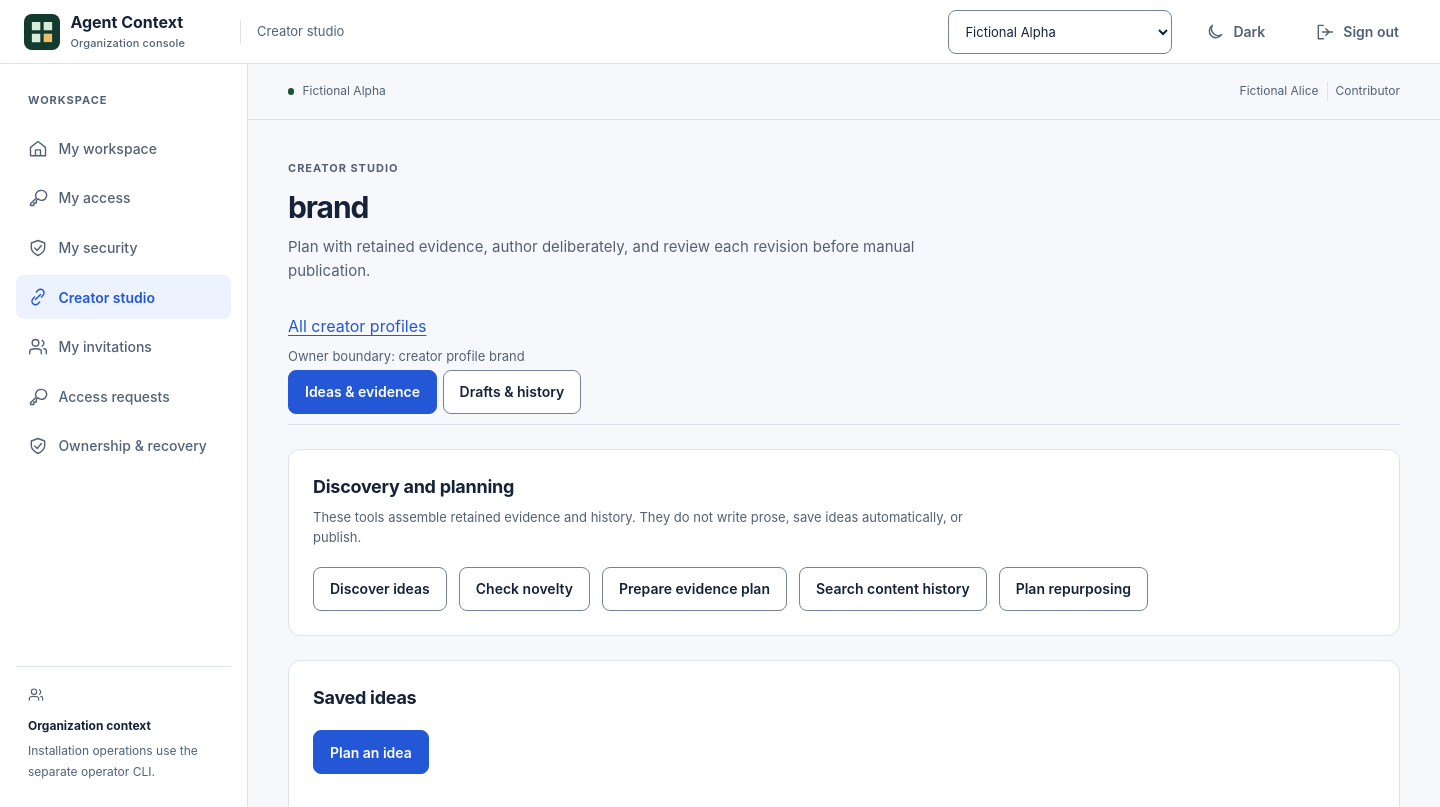
offers the real content API methods and supports lexical planning without embeddings
Click the button "Check novelty".
click(524, 589)  # box [459,567,590,611]
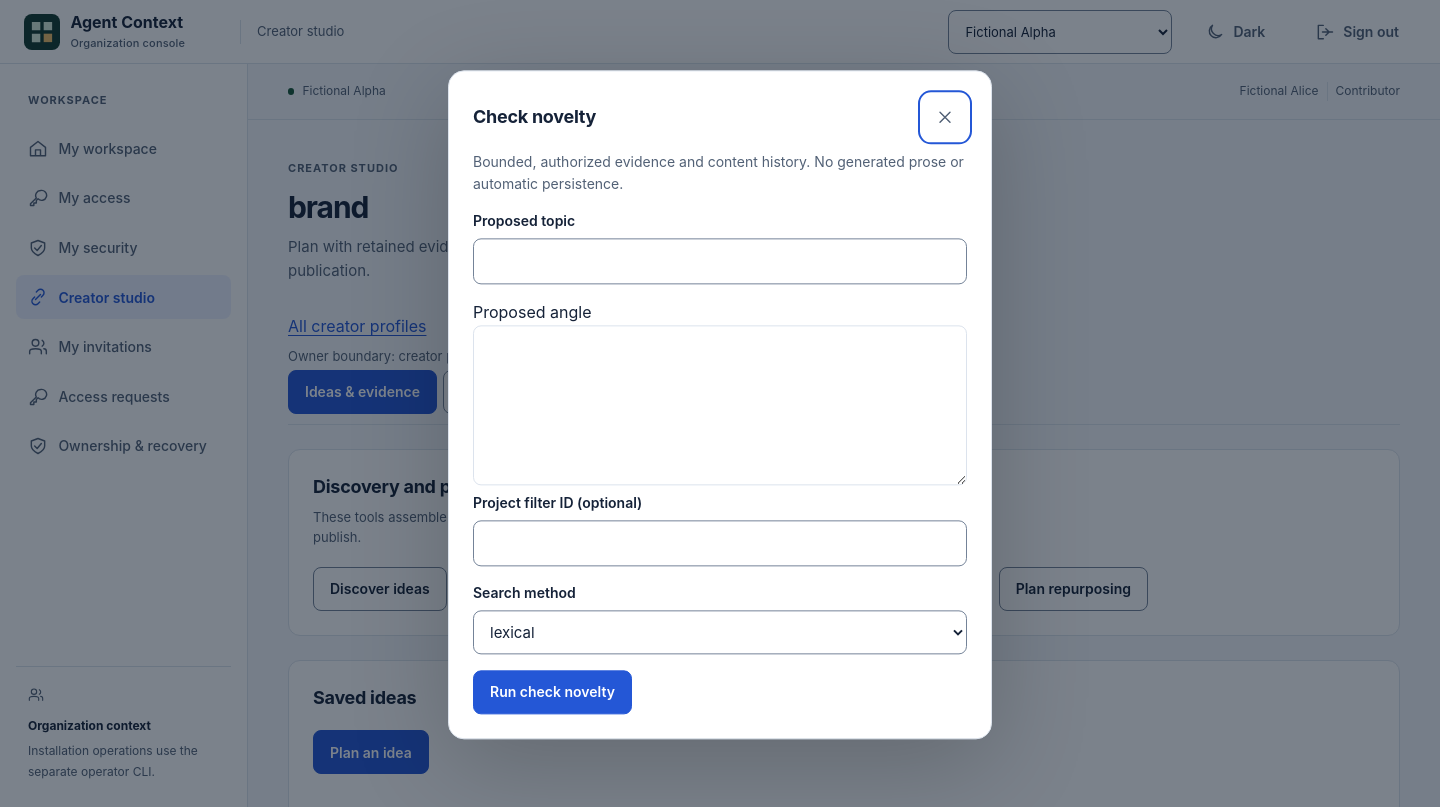
Now the dropdown labelled "Search method" shows "lexical", box [473,611,967,655]
Type "Bounded retries" into the field labelled "Proposed topic".
click(720, 262); type("Bounded retries")  # box [473,239,967,285]
Type "Public guidance" into the text box labelled "Proposed angle".
click(720, 406); type("Public guidance")  # box [473,326,967,486]
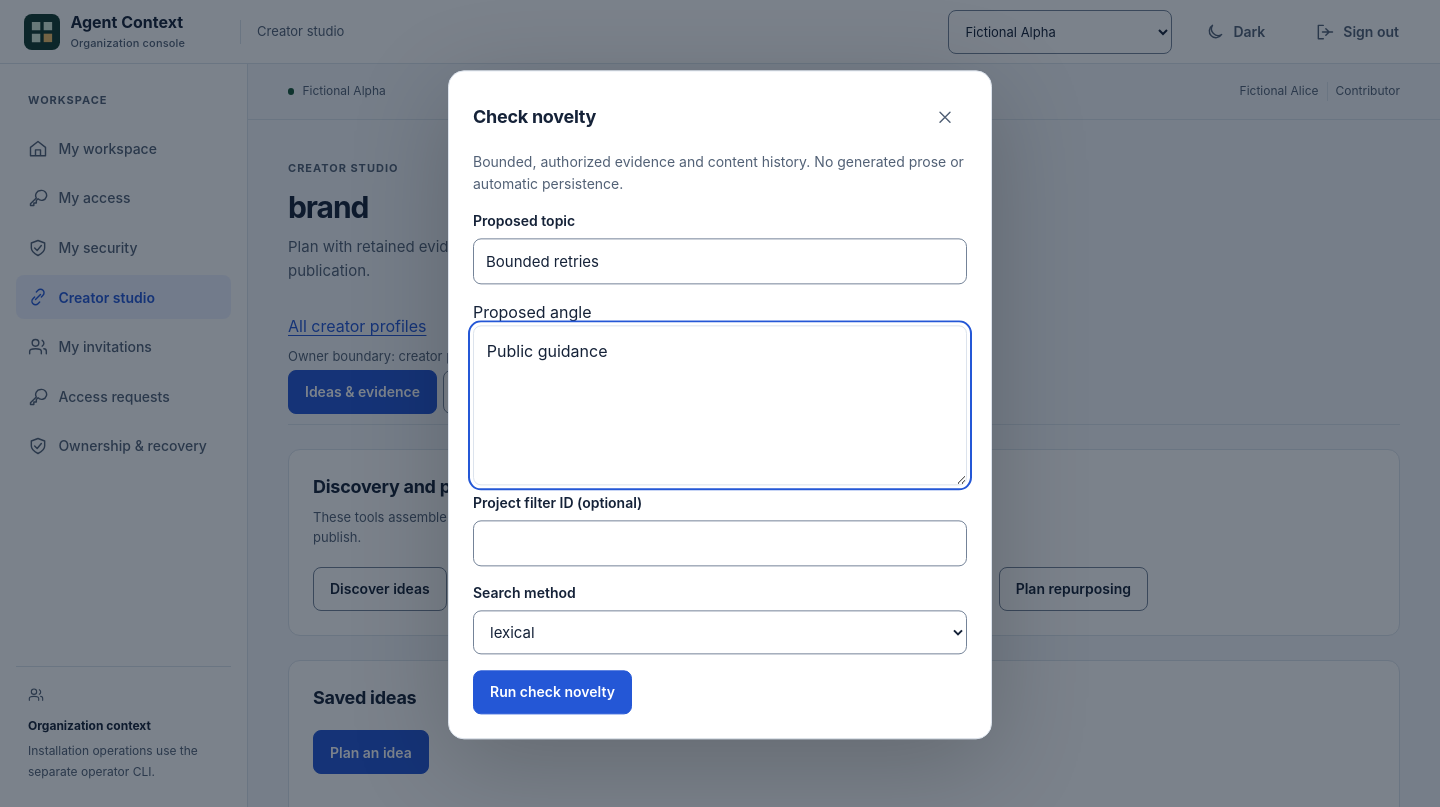
Select "hybrid" in the dropdown labelled "Search method" at (720, 633), box [473,611,967,655]
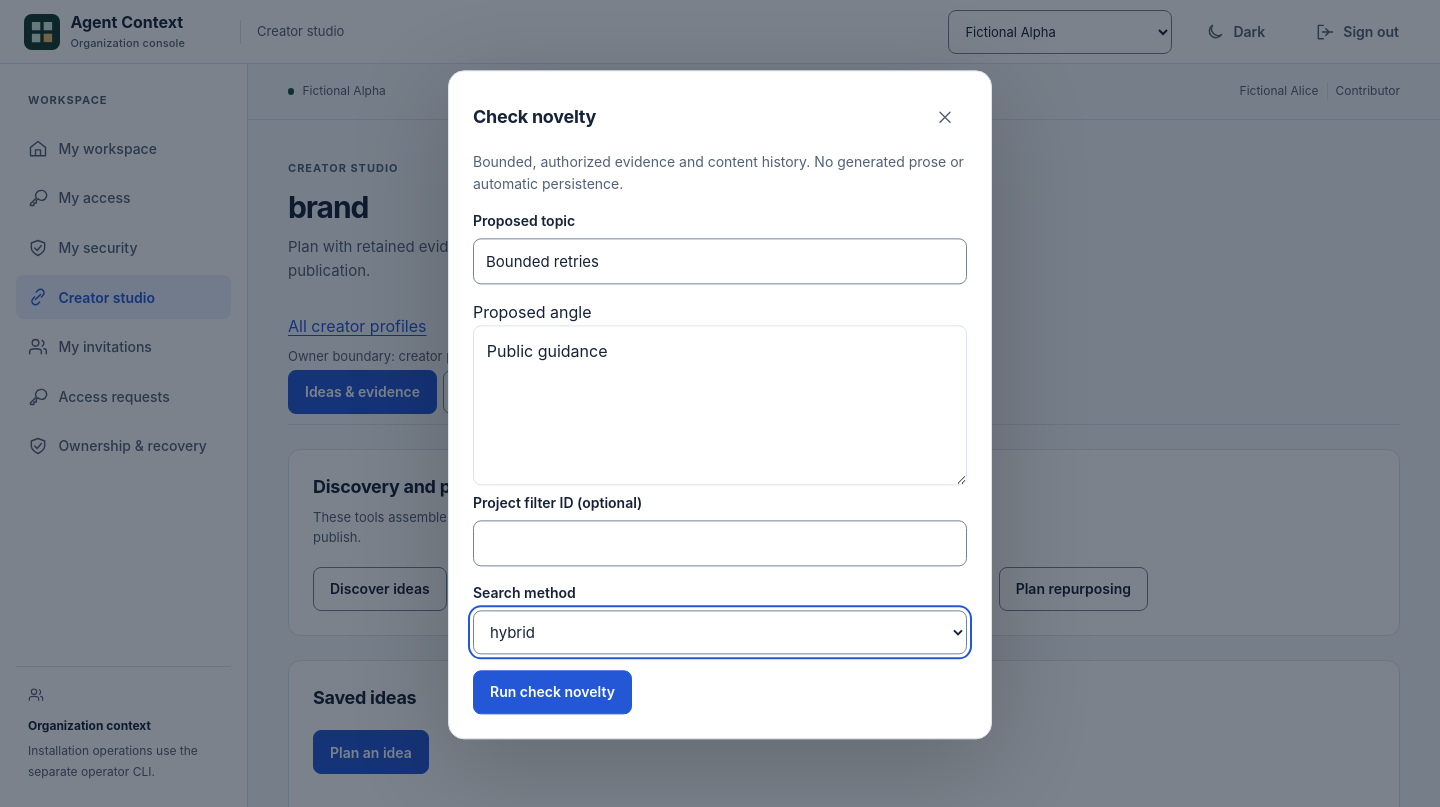
Click the button "Run check novelty".
click(552, 693)  # box [473,671,632,715]
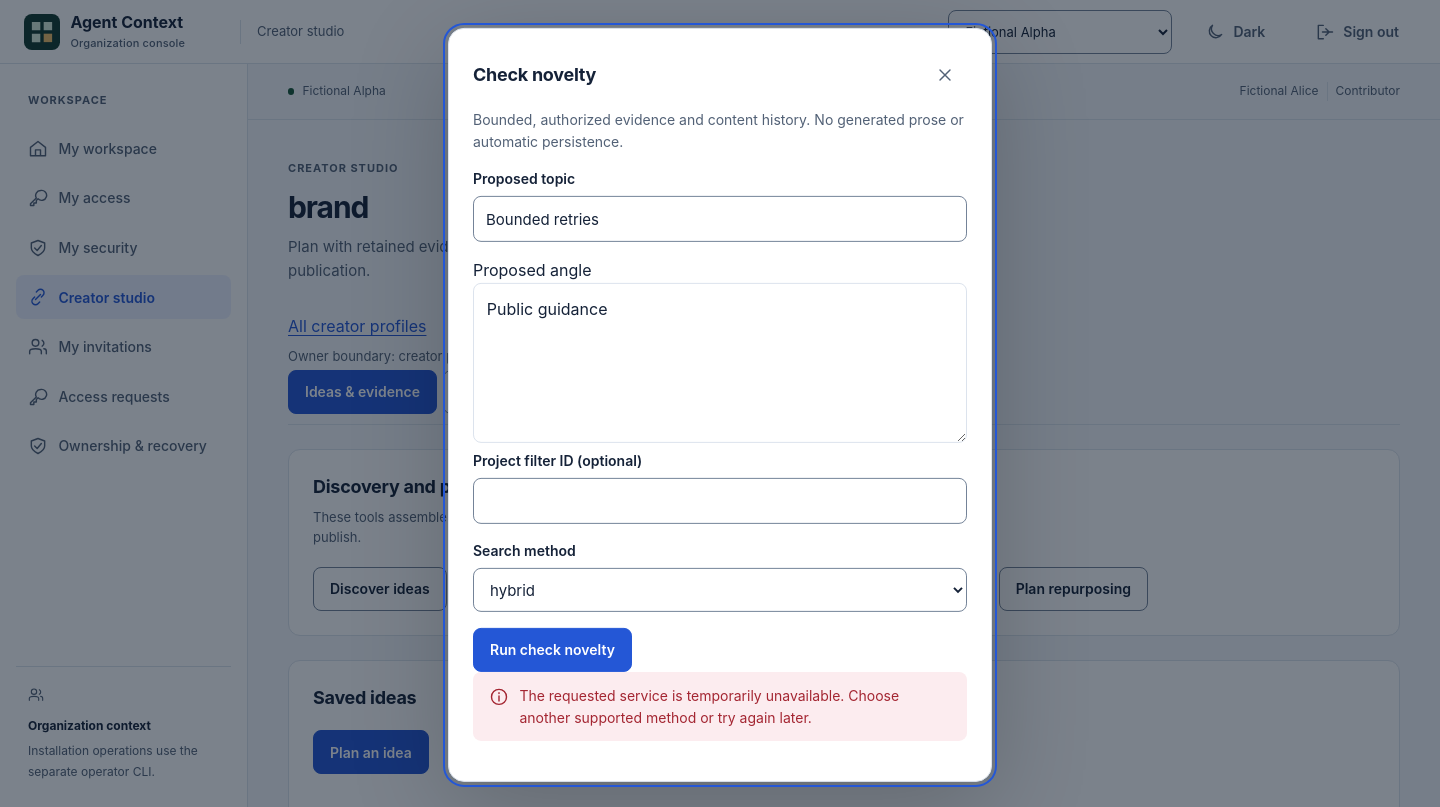
Now the text "requested service is temporarily unavailable" is shown, box [519,687,899,726]
Select "vector" in the dropdown labelled "Search method" at (720, 590), box [473,568,967,612]
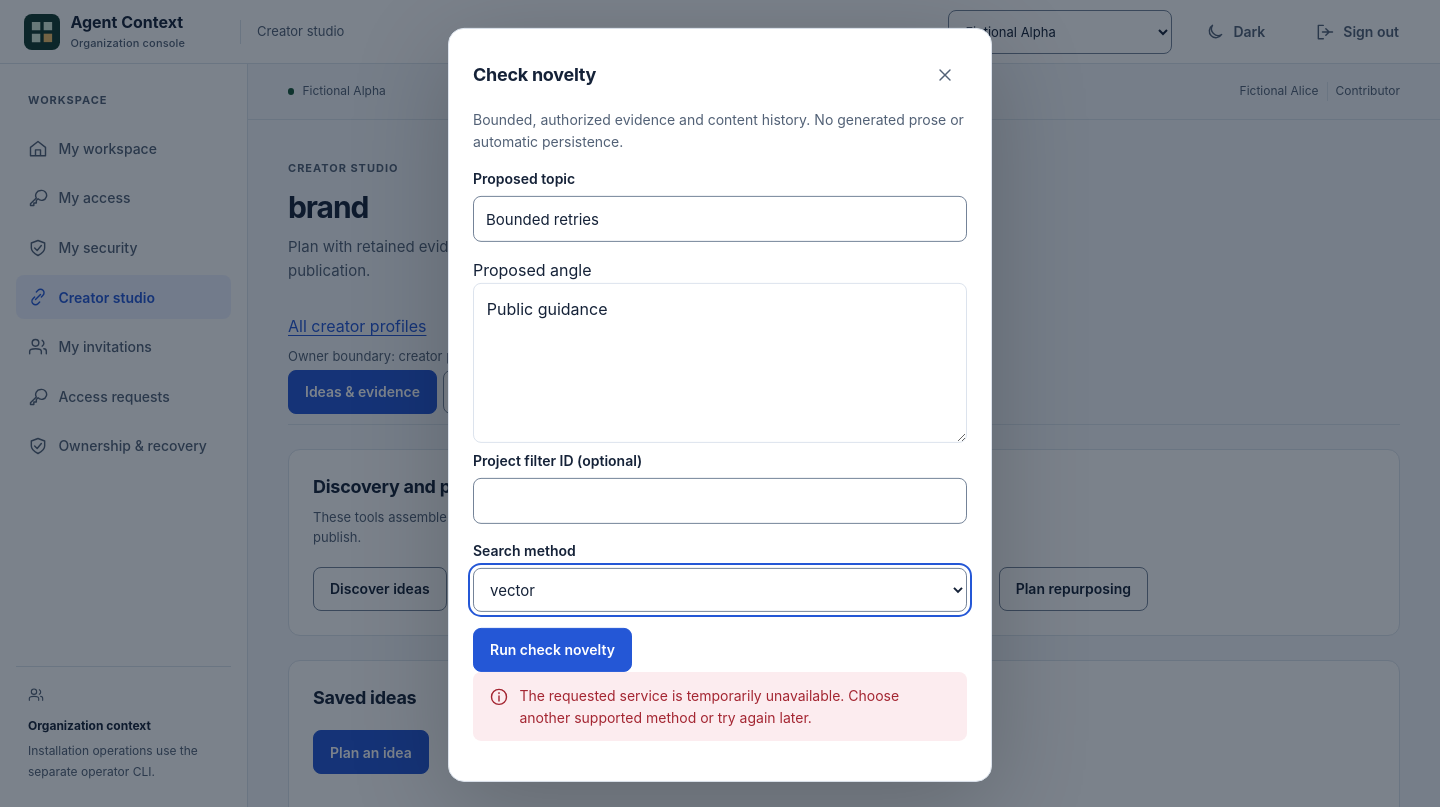
Click the button "Run check novelty".
click(552, 650)  # box [473,628,632,672]
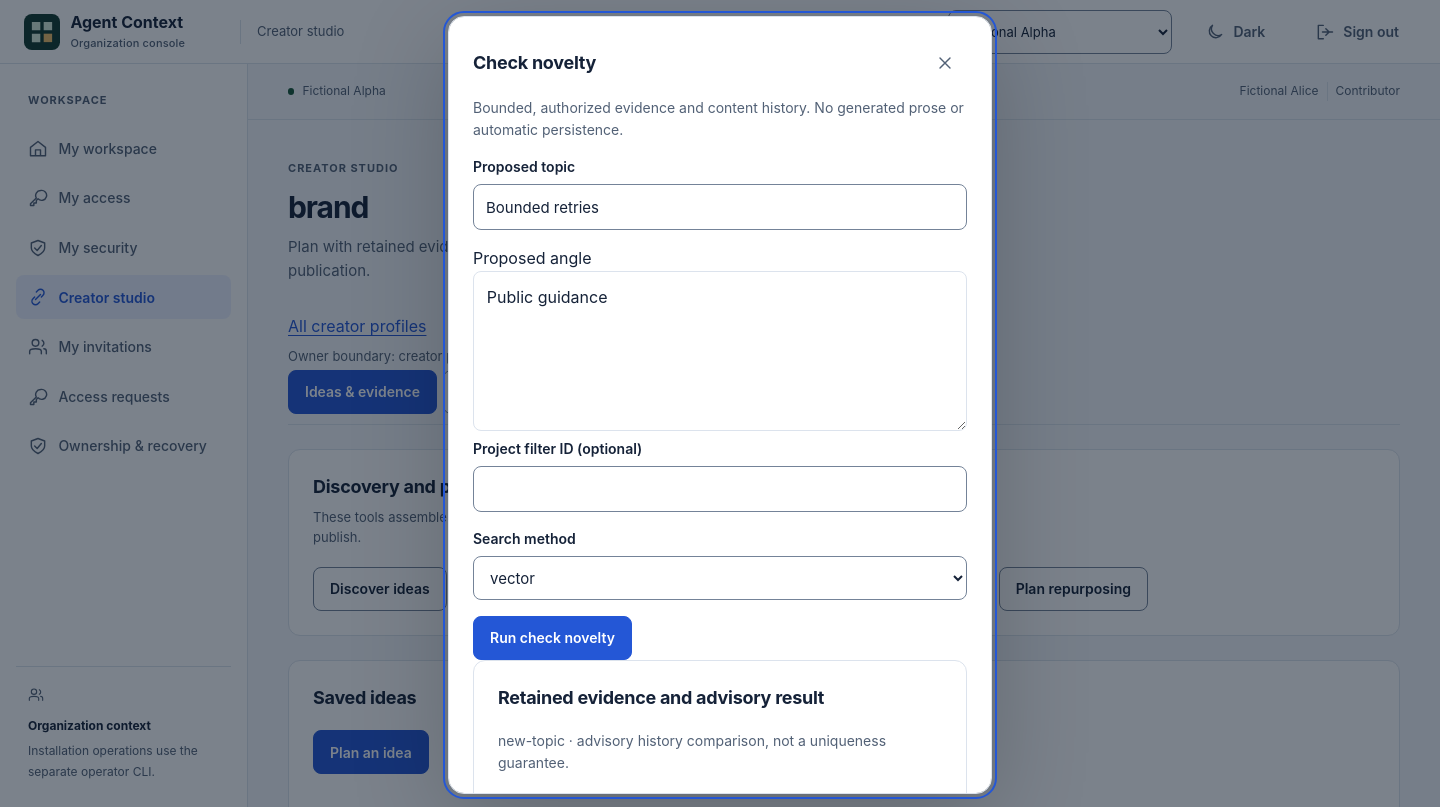
Now the text "advisory history comparison" is shown, box [498,732,886,771]
